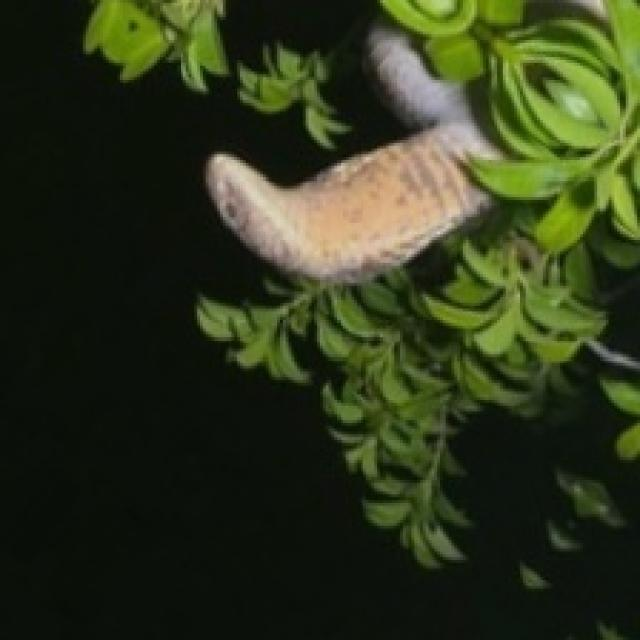king cobra: (197, 0, 637, 566), (206, 23, 500, 280)
